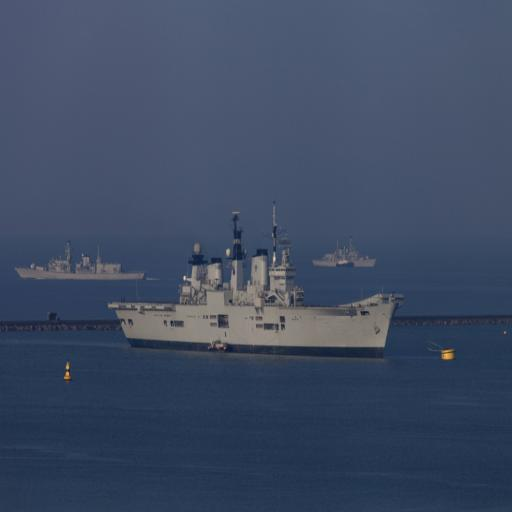Portanaves: (106, 199, 406, 362)
